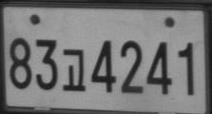1: (176, 41, 203, 96)
2: (119, 39, 144, 93)
3: (35, 38, 58, 90)
4: (145, 41, 173, 94), (89, 39, 116, 93)
8: (8, 36, 33, 90)
고: (62, 48, 86, 92)
